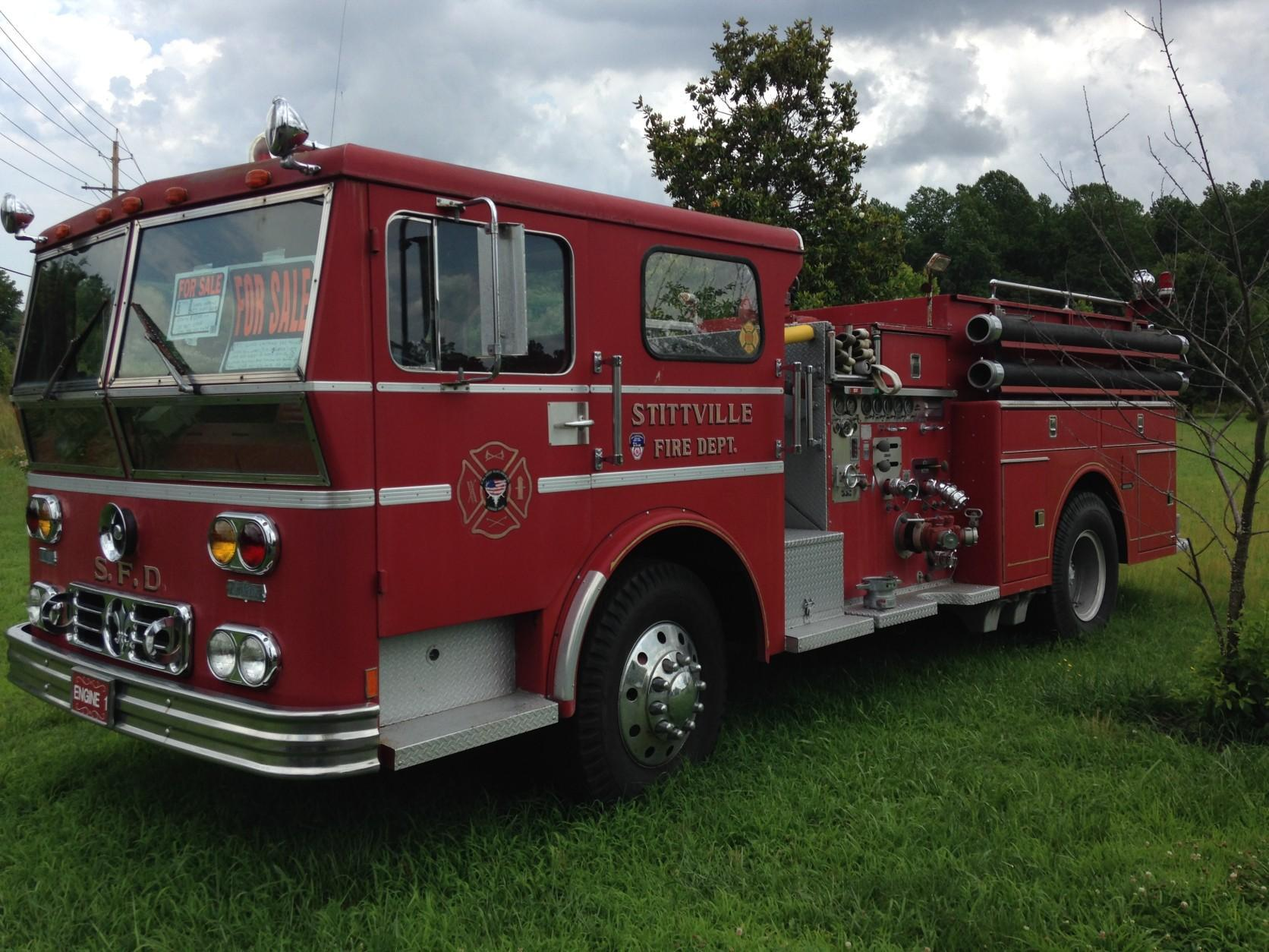Fire-engine: (5, 111, 1187, 805)
